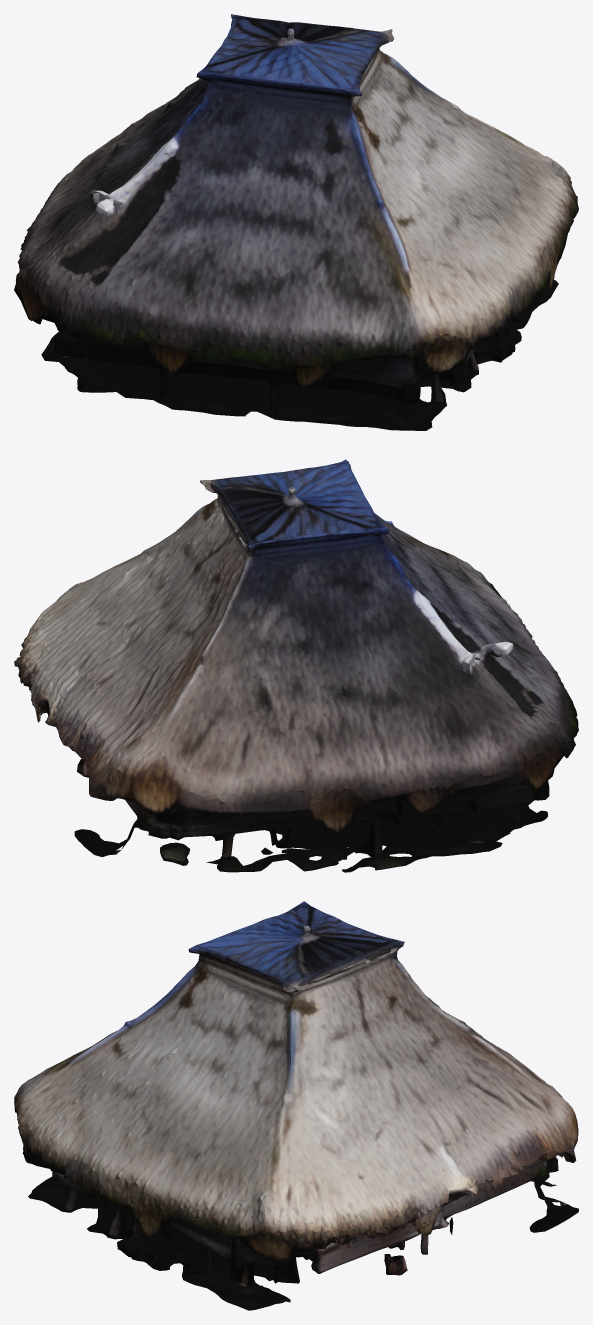
Rendered from nusa-tenggara-timur.glb.
3 renders of one model, top to bottom at view 1: azimuth 30°, elevation 25°; view 2: azimuth 150°, elevation 25°; view 3: azimuth 270°, elevation 25°, orthographic. The views are drawn at different scales.
Visible parts, largest first — view 1: world; view 2: world; view 3: world.
Part boxes in pixels (x1,y1,x2,y2): world: [14, 14, 578, 430]; world: [14, 459, 578, 872]; world: [14, 901, 578, 1310].
Size of the model in its own units: 0.6989 by 0.3845 by 0.7.
Materials: 1 (1 with a texture image).
